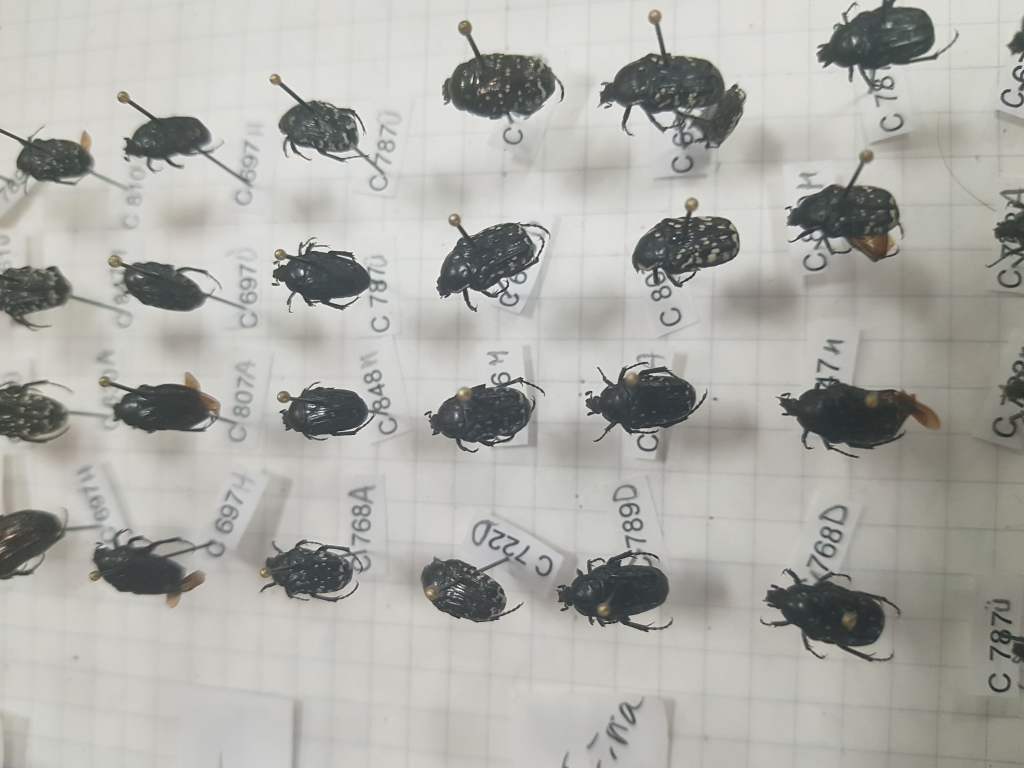Oxythyrea_albopicta: (428, 218, 552, 311), (627, 210, 742, 293), (268, 385, 378, 444)
